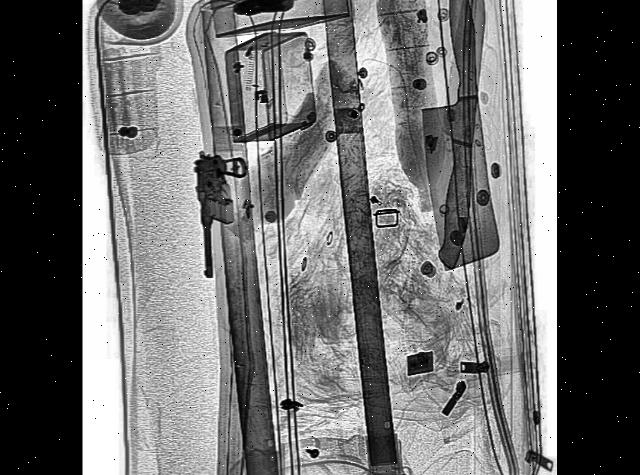Gun: (192, 140, 252, 276), (232, 0, 292, 14)
Knife: (402, 0, 500, 271), (431, 0, 488, 269)
